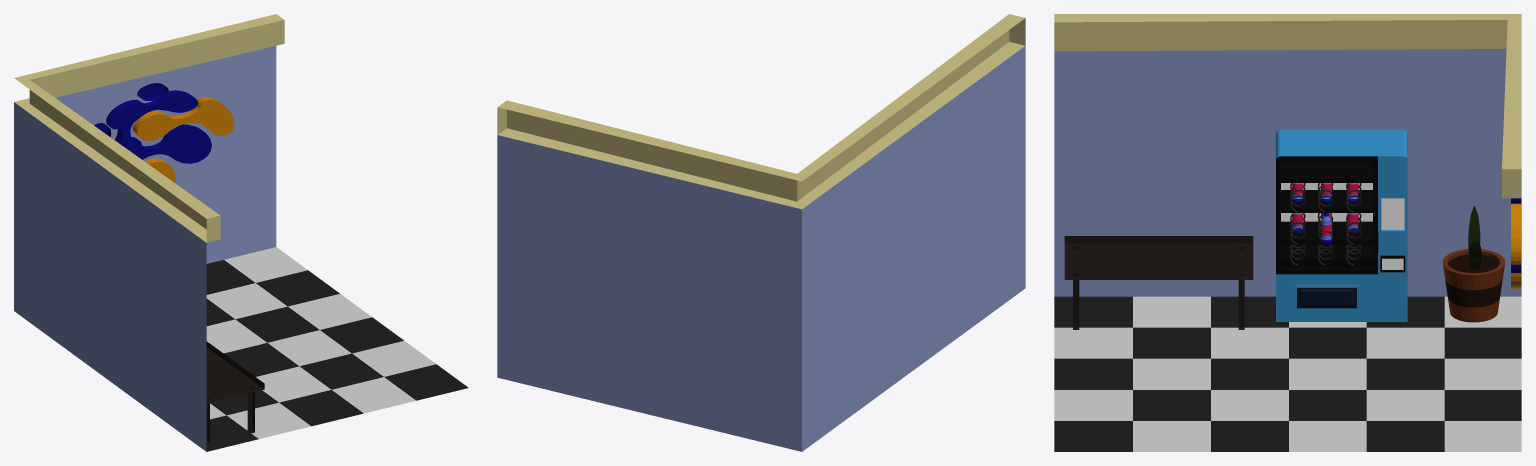
Rendered from AnimatedObject0031.obj.
The picture shows the model from 3 angles, left to right: view 1: azimuth 30°, elevation 25°; view 2: azimuth 150°, elevation 25°; view 3: azimuth 270°, elevation 25°; orthographic projection. The views are drawn at different scales.
Parts seen in each view (by area): view 1: ruangan_Cube.003, meja_Cube.004, logo_Circle.005, logo.001_Circle.001, logo.005_Circle.002; view 2: ruangan_Cube.003; view 3: ruangan_Cube.003, vending_machine_Cube.001, meja_Cube.004, pot_bunga_Cylinder, per_second\_Spiral.010, Plane.007, logo_Circle.005.
Part boxes in pixels (x1=…): ruangan_Cube.003: x1=14, y1=14, x2=468, y2=451; meja_Cube.004: x1=206, y1=341, x2=264, y2=444; logo_Circle.005: x1=133, y1=97, x2=234, y2=140; logo.001_Circle.001: x1=115, y1=124, x2=211, y2=163; logo.005_Circle.002: x1=106, y1=90, x2=197, y2=132; ruangan_Cube.003: x1=497, y1=14, x2=1025, y2=451; ruangan_Cube.003: x1=1054, y1=14, x2=1521, y2=451; vending_machine_Cube.001: x1=1276, y1=130, x2=1407, y2=321; meja_Cube.004: x1=1064, y1=236, x2=1253, y2=329; pot_bunga_Cylinder: x1=1442, y1=249, x2=1505, y2=322; per_second\_Spiral.010: x1=1290, y1=183, x2=1361, y2=265; Plane.007: x1=1468, y1=206, x2=1481, y2=268; logo_Circle.005: x1=1511, y1=203, x2=1521, y2=264.
Size of the model in its own units: 11.73 by 9.95 by 14.9.
